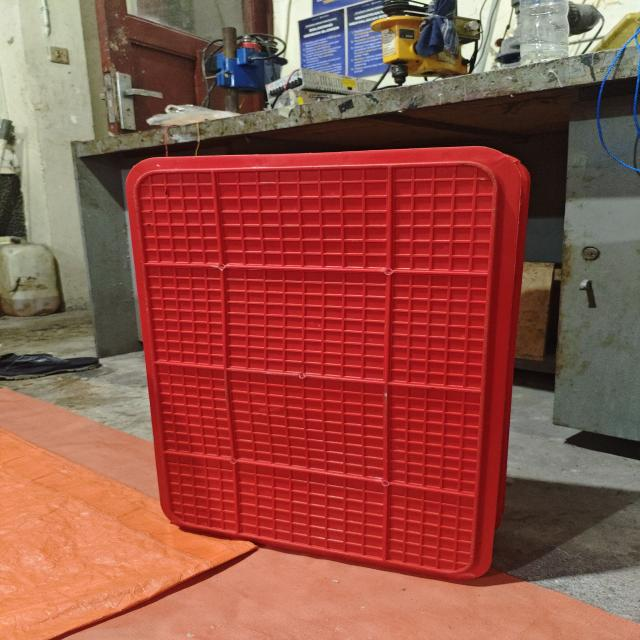red plastic box: (126, 146, 532, 580)
